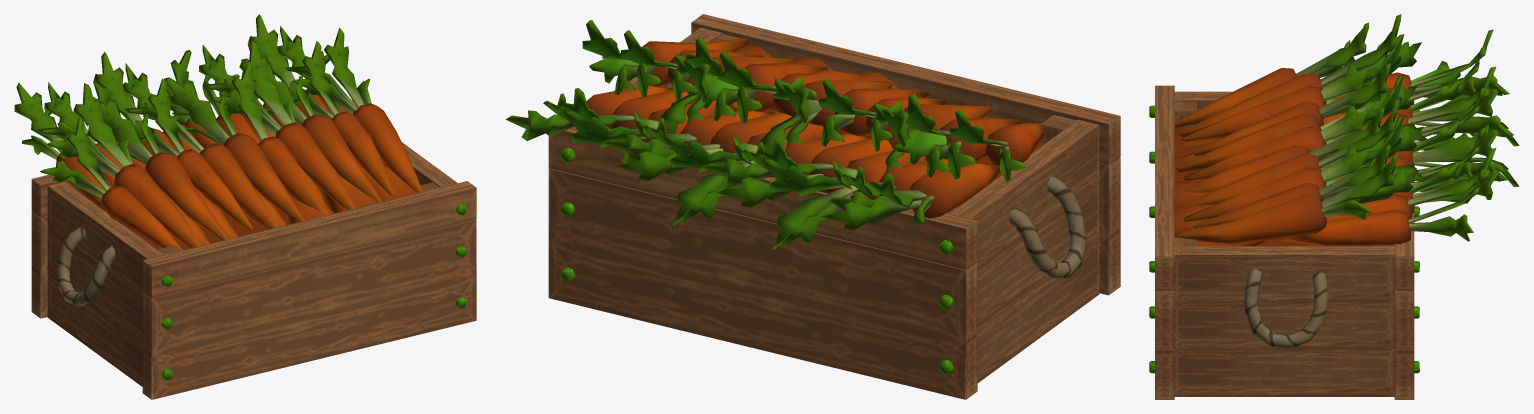
File: FarmCrate_Carrot.gltf
3 renders of one model, left to right at view 1: azimuth 30°, elevation 25°; view 2: azimuth 150°, elevation 25°; view 3: azimuth 270°, elevation 25°, orthographic. The views are drawn at different scales.
Visible parts, largest first — view 1: FarmCrate_Carrot; view 2: FarmCrate_Carrot; view 3: FarmCrate_Carrot.
Boxes of the visible parts, x1,y1,x2,y2 form: FarmCrate_Carrot: (14, 14, 476, 399); FarmCrate_Carrot: (506, 14, 1120, 399); FarmCrate_Carrot: (1149, 14, 1519, 399).
Bounding box in the file's own units: 0.7138 × 0.4113 × 0.567.
3 materials, 3 textured.
